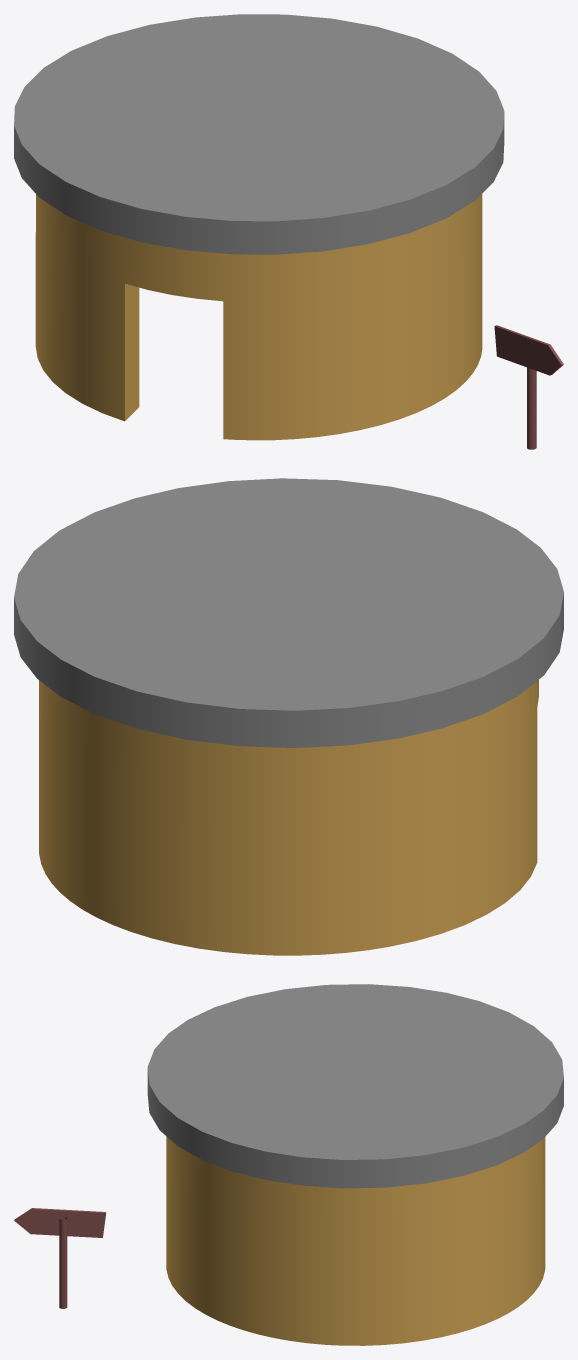
3 views of the same model, one above another, from view 1: azimuth 30°, elevation 25°; view 2: azimuth 150°, elevation 25°; view 3: azimuth 270°, elevation 25° (orthographic). The views are drawn at different scales.
Visible parts, largest first — view 1: Object_2, Object_1, Object_3, Object_4; view 2: Object_2, Object_1; view 3: Object_2, Object_1, Object_3, Object_4.
Boxes of the visible parts, x1,y1,x2,y2 form: Object_2: (14, 14, 504, 254); Object_1: (35, 194, 482, 440); Object_3: (494, 325, 563, 375); Object_4: (527, 367, 536, 449); Object_2: (14, 478, 563, 747); Object_1: (39, 680, 538, 955); Object_2: (147, 984, 563, 1188); Object_1: (166, 1136, 545, 1345); Object_3: (14, 1208, 106, 1237); Object_4: (59, 1217, 67, 1308).
Size of the model in its own units: 6.66 by 3.42 by 8.8.
